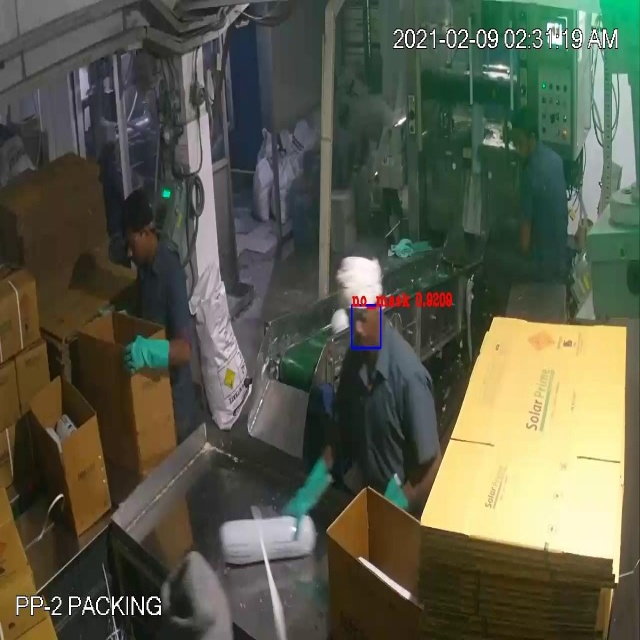Guantes: (275, 448, 336, 549), (115, 324, 186, 387)
